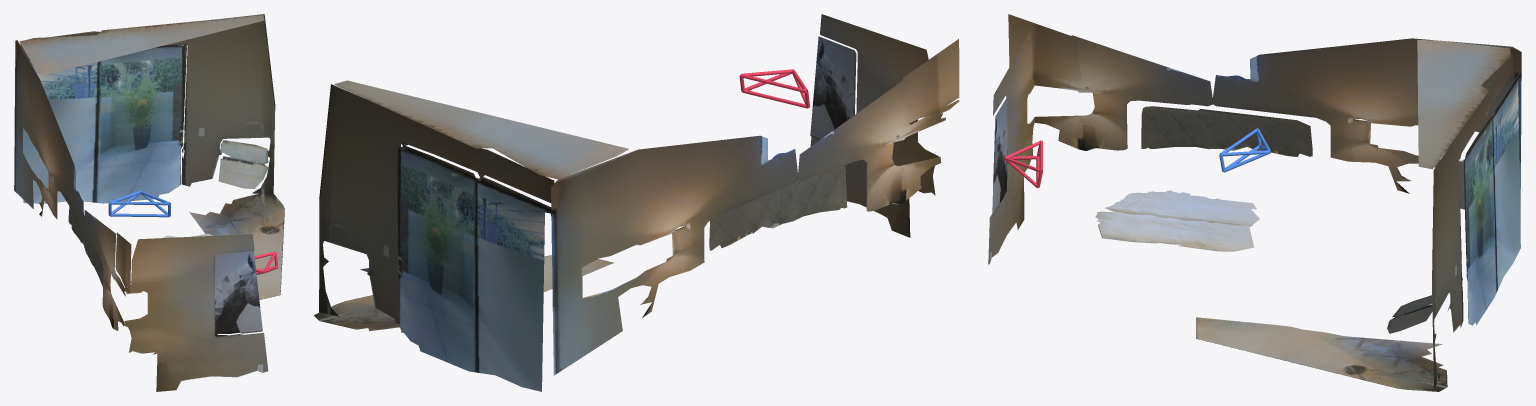
The picture shows the model from 3 angles, left to right: view 1: azimuth 30°, elevation 25°; view 2: azimuth 150°, elevation 25°; view 3: azimuth 270°, elevation 25°; orthographic projection. The views are drawn at different scales.
Parts seen in each view (by area): view 1: Node; view 2: Node; view 3: Node.
Part boxes in pixels (x1,y1,x2,y2): Node: (14,14,284,391); Node: (314,14,959,391); Node: (988,14,1521,391).
Size of the model in its own units: 5.08 by 2.78 by 6.13.
16 materials, 14 textured.
